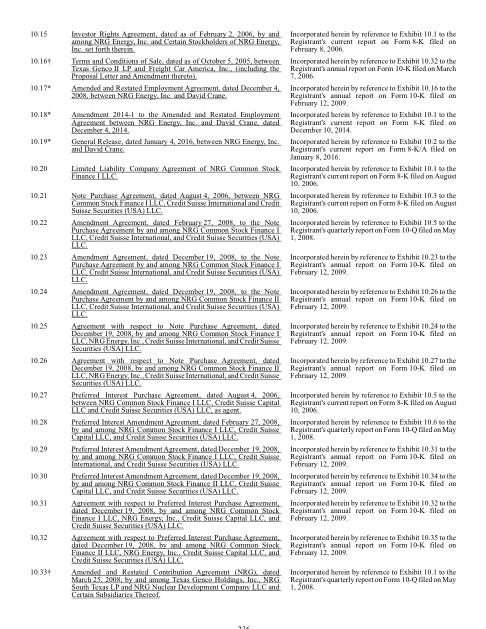table: (29, 27, 455, 598)
table column: (60, 27, 283, 598), (283, 27, 455, 598), (29, 27, 60, 598)
table column header: (29, 27, 455, 53)
table row: (29, 249, 455, 284), (29, 318, 455, 353), (29, 495, 455, 530), (29, 215, 455, 249), (29, 284, 455, 318), (29, 353, 455, 387), (29, 530, 455, 564), (29, 564, 455, 598), (29, 53, 455, 80), (29, 80, 455, 107), (29, 107, 455, 134), (29, 134, 455, 161), (29, 161, 455, 188), (29, 188, 455, 215), (29, 387, 455, 414), (29, 414, 455, 441), (29, 441, 455, 468), (29, 468, 455, 495), (29, 27, 455, 53)
